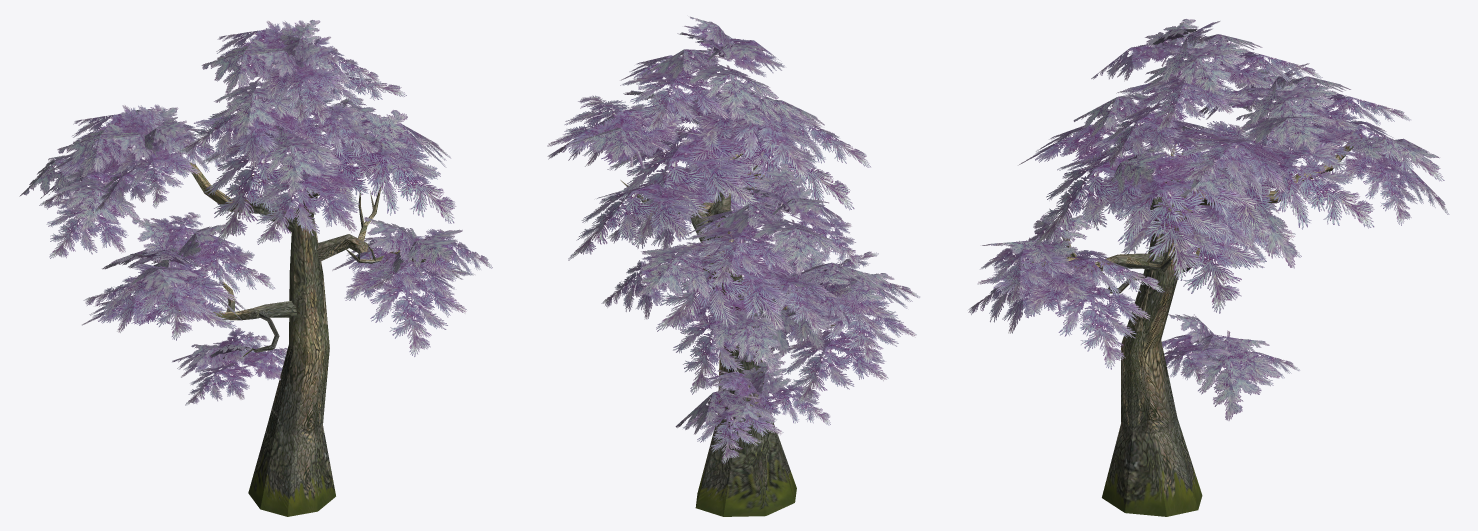
File: shu.FBX
The picture shows the model from 3 angles, left to right: view 1: azimuth 30°, elevation 25°; view 2: azimuth 150°, elevation 25°; view 3: azimuth 270°, elevation 25°; orthographic projection. The views are drawn at different scales.
Parts seen in each view (by area): view 1: Object423780, Object423781; view 2: Object423780, Object423781; view 3: Object423780, Object423781.
Boxes of the visible parts, left/top/right/bottom form: Object423780: left=19, top=20, right=492, bottom=405; Object423781: left=157, top=158, right=438, bottom=516; Object423780: left=547, top=16, right=919, bottom=464; Object423781: left=620, top=152, right=835, bottom=516; Object423780: left=968, top=19, right=1449, bottom=420; Object423781: left=1023, top=128, right=1361, bottom=516.
Size of the model in its own units: 16.29 by 19.27 by 18.23.
